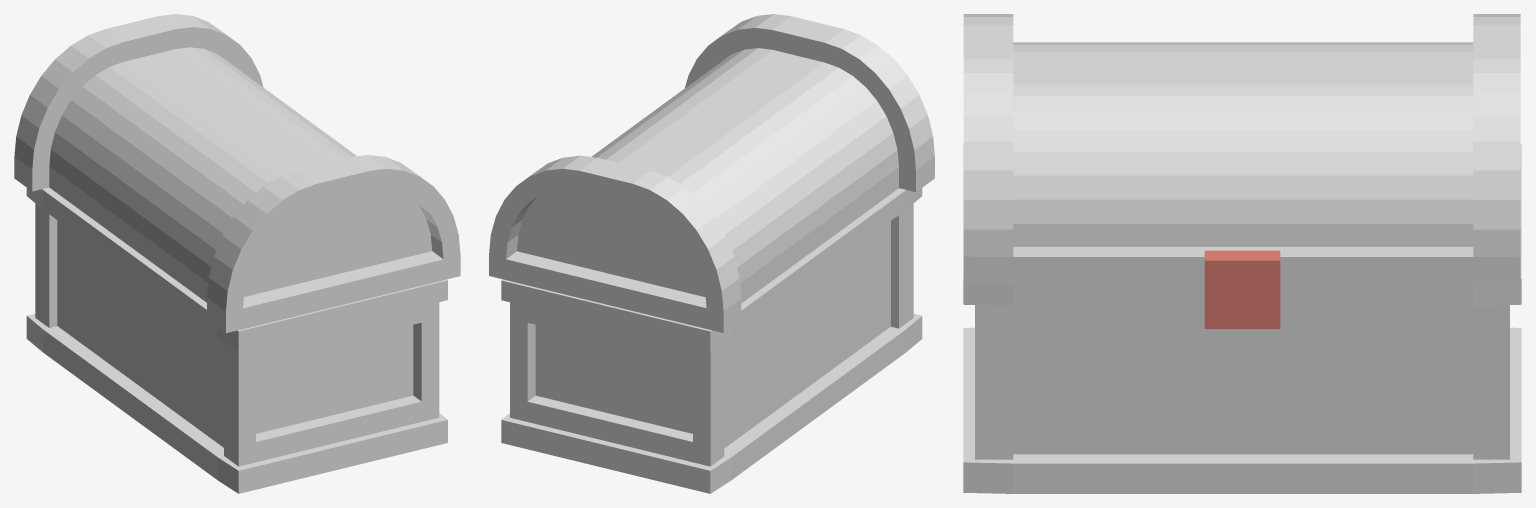
The picture shows the model from 3 angles, left to right: view 1: azimuth 30°, elevation 25°; view 2: azimuth 150°, elevation 25°; view 3: azimuth 270°, elevation 25°; orthographic projection. The views are drawn at different scales.
Visible parts, largest first — view 1: lid, Chest; view 2: lid, Chest; view 3: lid, Chest, Locker.
Boxes of the visible parts, bbox=[...] form: lid: bbox=[14, 14, 460, 333]; Chest: bbox=[26, 187, 447, 493]; lid: bbox=[489, 14, 934, 332]; Chest: bbox=[501, 188, 922, 493]; lid: bbox=[963, 14, 1520, 285]; Chest: bbox=[963, 144, 1521, 493]; Locker: bbox=[1204, 250, 1280, 328].
Size of the model in its own units: 248 by 277 by 366.
